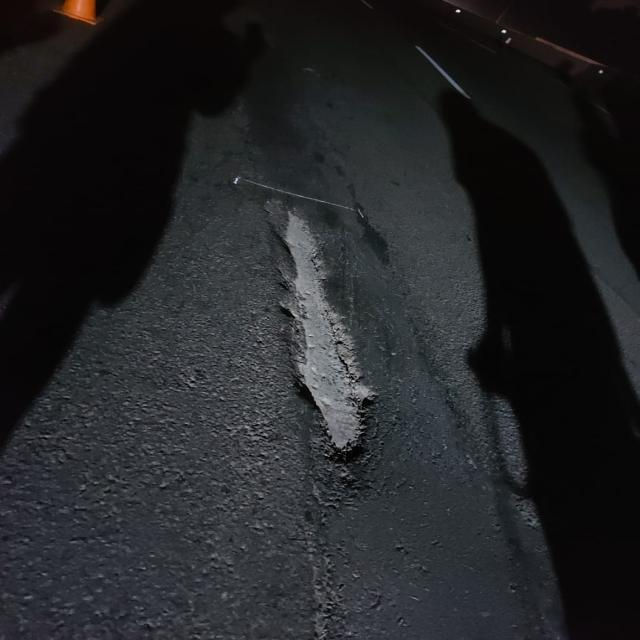Buraco: (268, 204, 385, 469)
